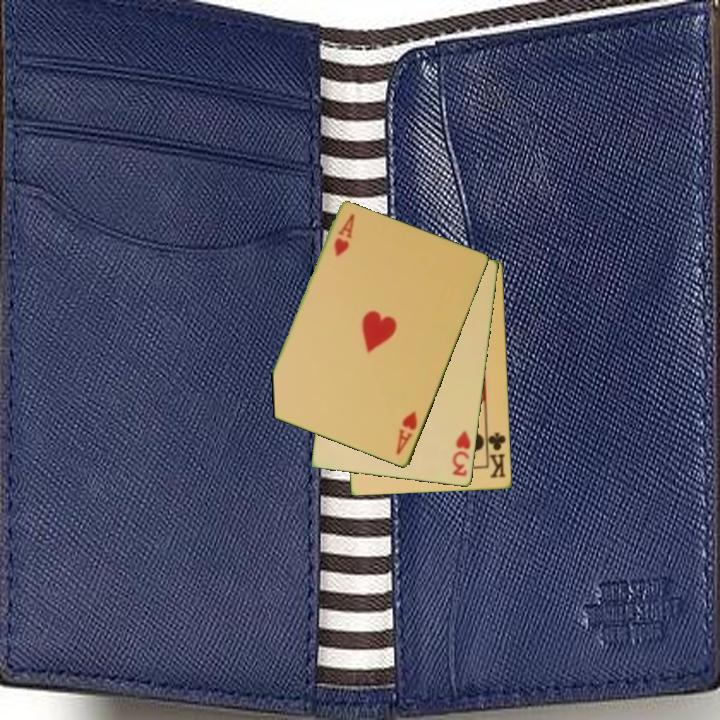3h: (449, 427, 474, 479)
Ah: (393, 408, 420, 458), (331, 210, 358, 260)
Kc: (483, 428, 509, 481)
